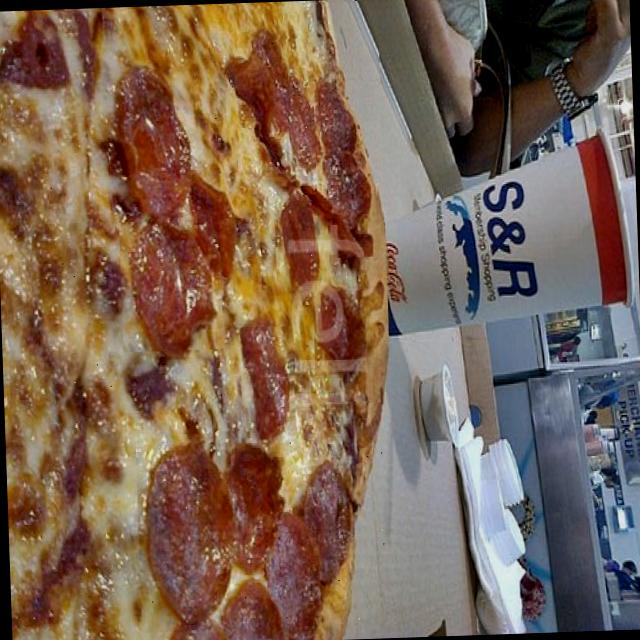pepperoni: (134, 442, 240, 632), (117, 217, 220, 352), (104, 68, 199, 214), (232, 38, 314, 197), (213, 430, 290, 576), (312, 88, 378, 258), (286, 464, 361, 592), (260, 510, 326, 640), (311, 290, 369, 402), (238, 326, 292, 443), (186, 172, 244, 278), (273, 200, 336, 294), (208, 579, 288, 640), (166, 605, 239, 640)
pizza: (0, 3, 384, 640)
